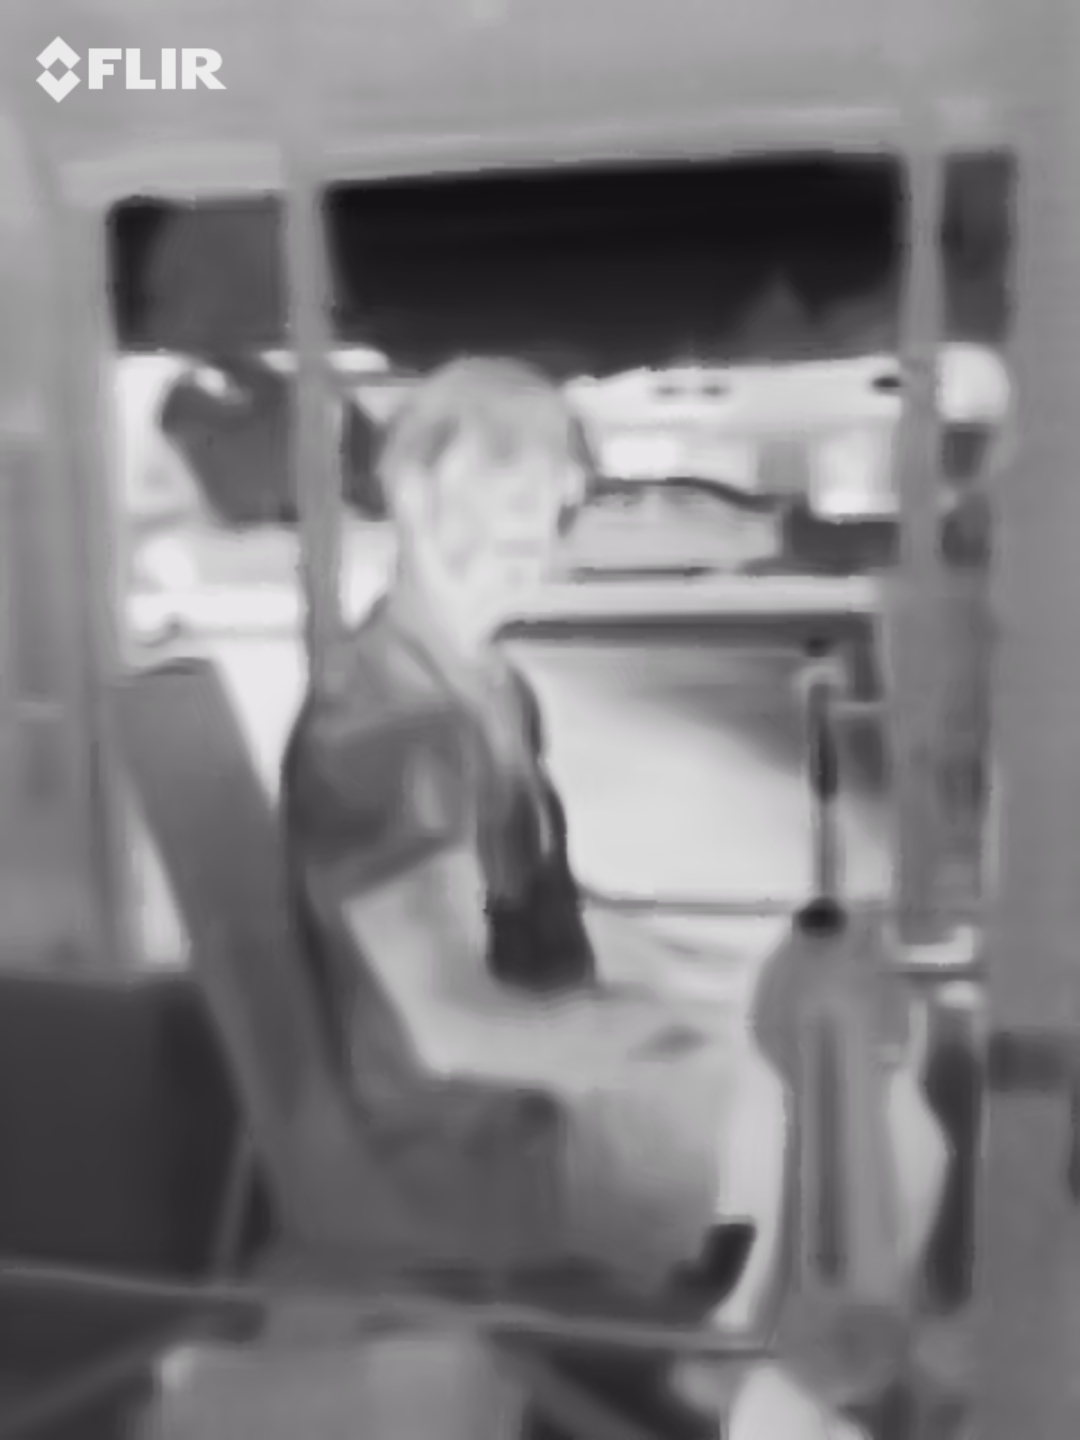head: (376, 353, 568, 642)
